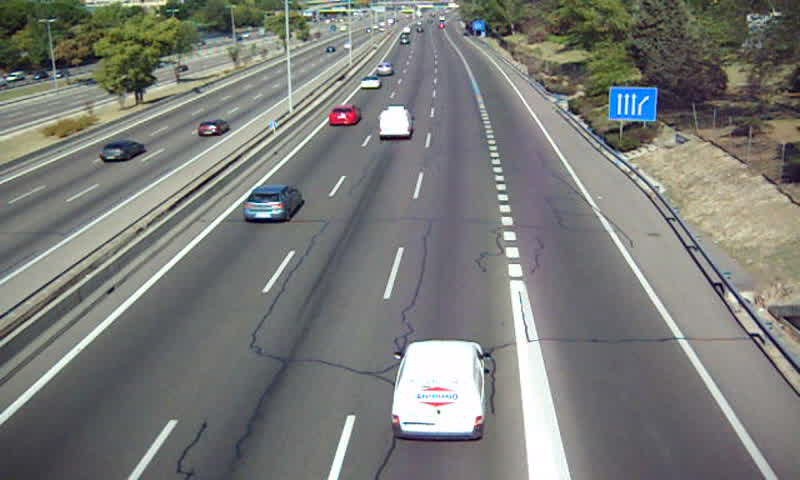car: (241, 184, 301, 220), (329, 105, 360, 127), (359, 76, 380, 89), (376, 62, 392, 76)
van: (391, 340, 486, 438), (378, 106, 411, 138)
